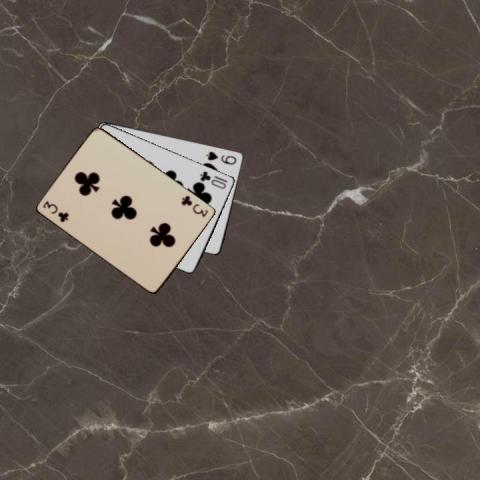10c: (197, 168, 229, 190)
3c: (178, 192, 209, 219), (40, 197, 70, 224)
9s: (203, 148, 238, 166)
